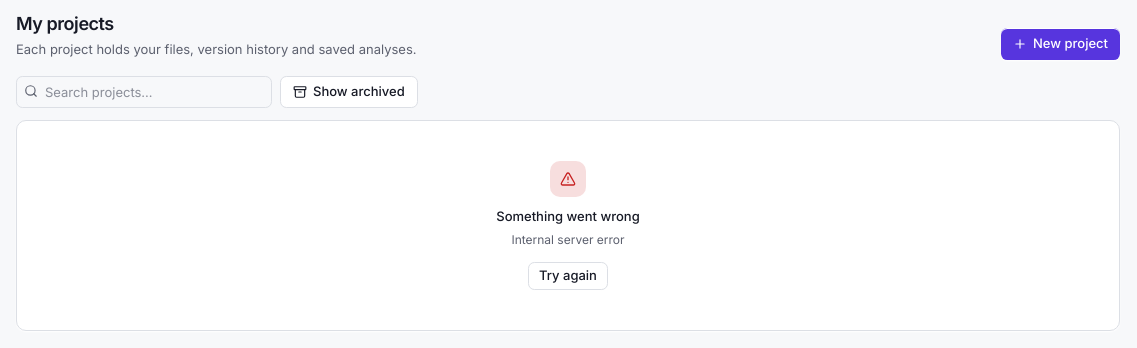
Test: Projects page › shows API failures with a retry that works
This screenshot has width=1137, height=348.
Check: the message shows "Internal server error", box [511,232,624,247]
Click the button "Try again" at {"x": 568, "y": 276}, box [528,262,608,290]
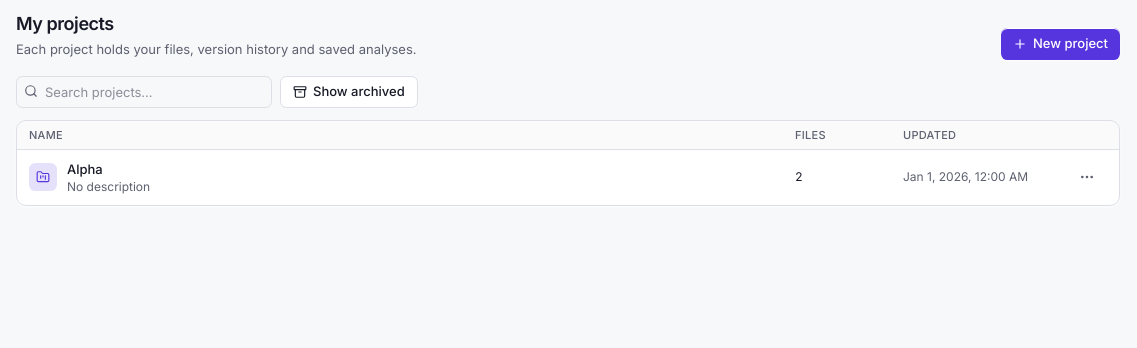
Check: the text "Alpha" is shown, box [67,160,103,176]
